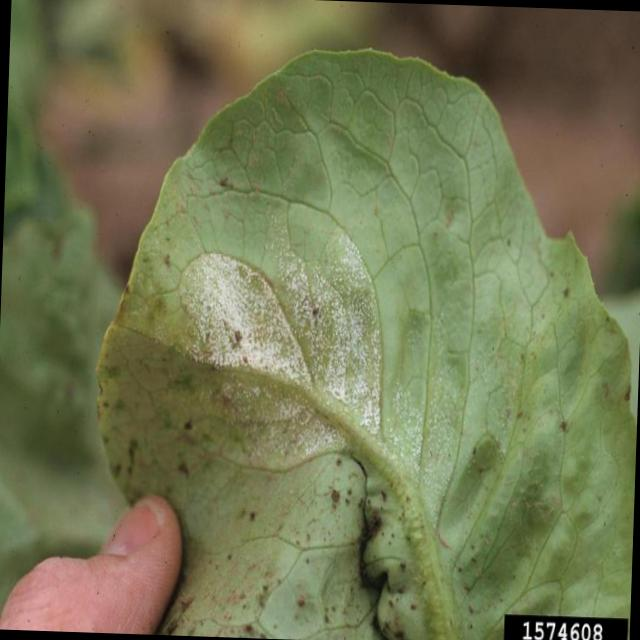Downy_Mildew: (192, 255, 248, 369), (318, 298, 375, 399), (263, 396, 314, 452), (248, 315, 288, 373)
